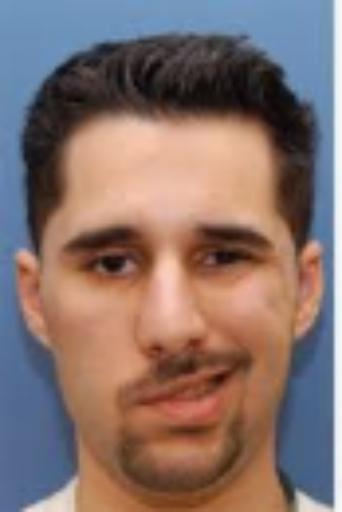left_eye: (198, 249, 262, 277)
left_lip_corner: (220, 360, 251, 383)
right_eye: (77, 251, 144, 282)
right_lip_corner: (136, 392, 161, 413)
